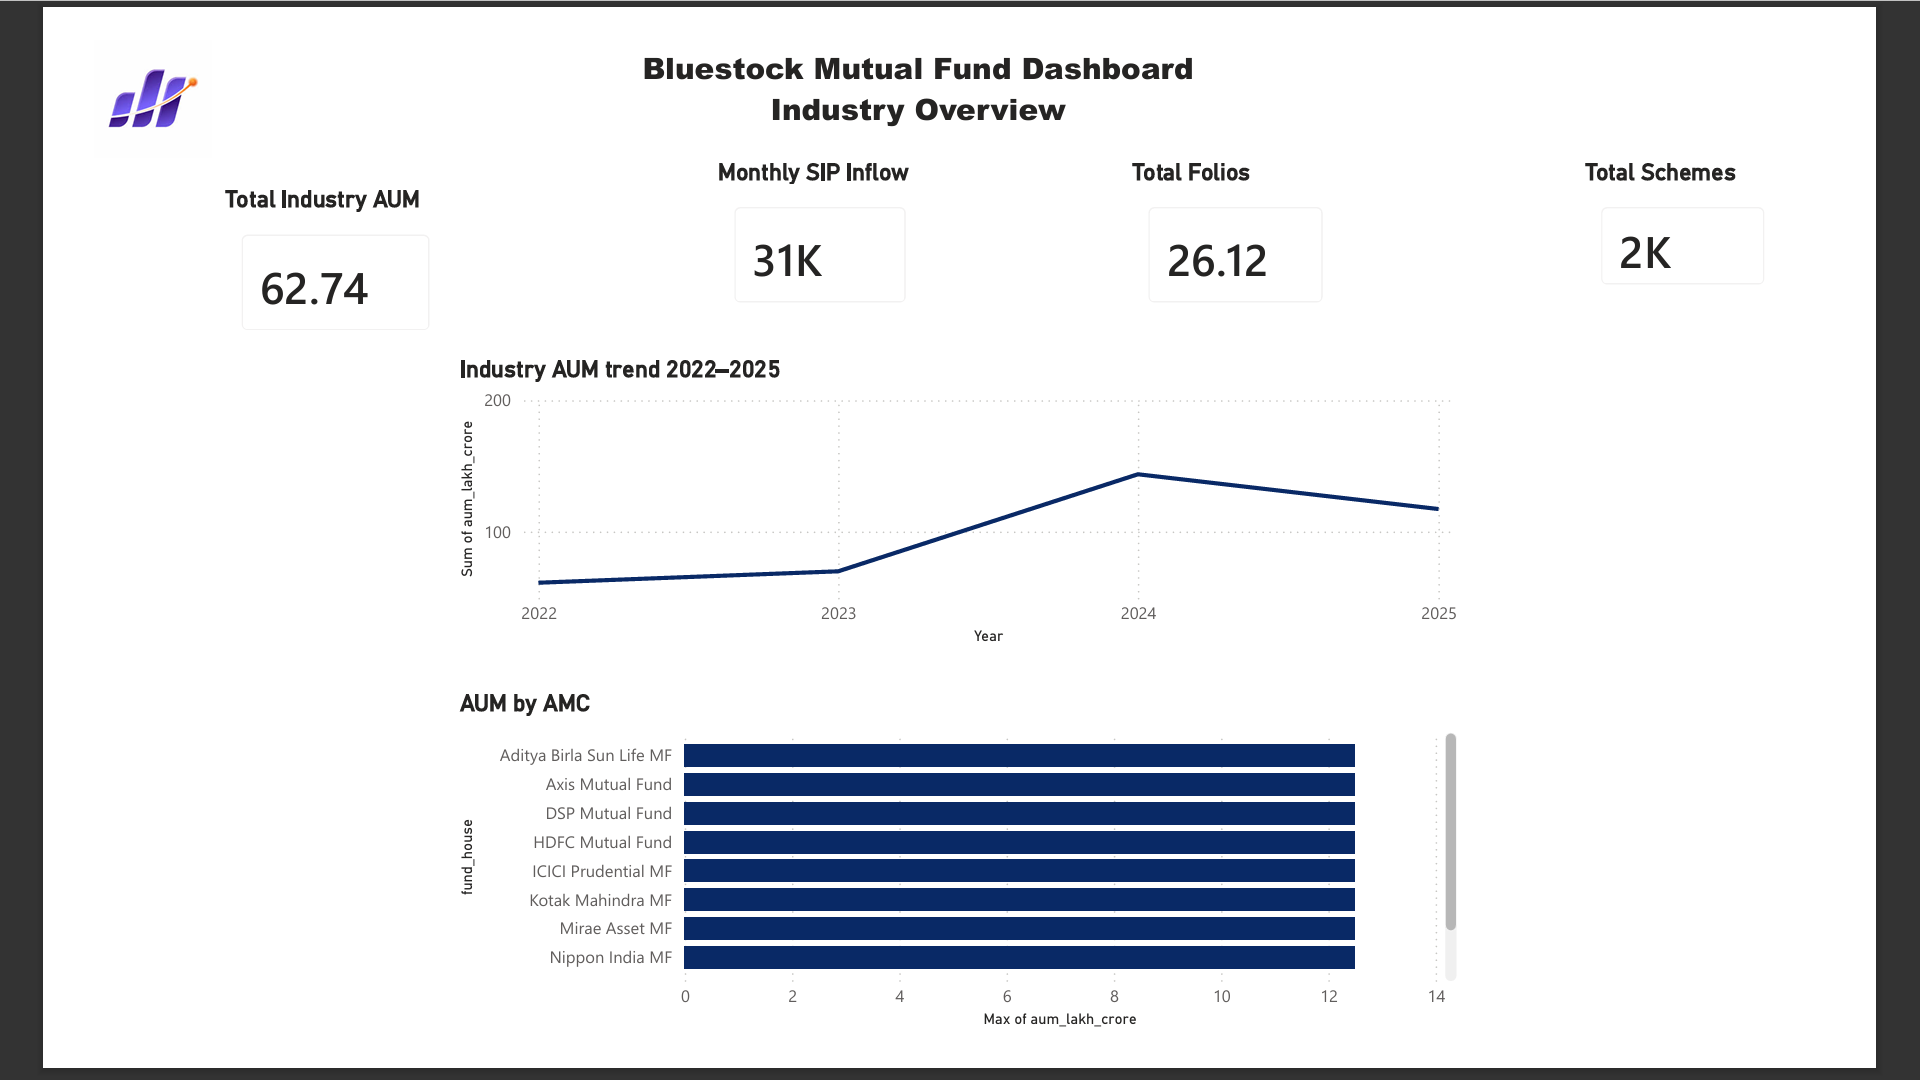

This screenshot's page, from the dashboard's own definition file:
{"tool":"powerbi","page":{"name":"Industry Overview","canvas":[1280,720],"ordinal":0},"visuals":[{"type":"cardVisual","title":"Total Industry AUM","fields":{"Data":["aum_by_fund_house_clean.Latest Industry AUM"]},"box":[102.5,105,170,122.5],"z":0},{"type":"cardVisual","title":"Monthly SIP Inflow","fields":{"Data":["Max(monthly_sip_inflows_clean.sip_inflow_crore)"]},"box":[460,85,157.5,122.5],"z":1000},{"type":"cardVisual","title":"Total Folios","fields":{"Data":["Max(industry_folio_count_clean.total_folios_crore)"]},"box":[760,85,160,122.5],"z":2000},{"type":"cardVisual","title":"Total Schemes","fields":{"Data":["aum_by_fund_house_clean.Latest Total Schemes"]},"box":[1087.5,85,152.5,110],"z":3000},{"type":"lineChart","title":"Industry AUM trend 2022–2025","fields":{"Category":["aum_by_fund_house_clean.date.Variation.Date Hierarchy.Year","aum_by_fund_house_clean.date.Variation.Date Hierarchy.Quarter","aum_by_fund_house_clean.date.Variation.Date Hierarchy.Month","aum_by_fund_house_clean.date.Variation.Date Hierarchy.Day"],"Y":["Sum(aum_by_fund_house_clean.aum_lakh_crore)"]},"box":[272.5,227.5,732.5,215],"z":4000},{"type":"clusteredBarChart","title":"AUM by AMC","fields":{"Category":["fund_master_clean.fund_house"],"Y":["Max(aum_by_fund_house_clean.aum_lakh_crore)"]},"box":[272.5,470,732.5,250],"z":5000},{"type":"textbox","box":[55,0,1110,72.5],"z":6000},{"type":"image","box":[5.4,0,99.2,85.4],"z":6001}]}

Visuals, with their boxes in screenshot pixels (x1, y1, x2, y2), scaled from the page's 1280x720 canvas onto the 1920x1080 screenshot:
"Total Industry AUM" cardVisual: x1=154 y1=158 x2=409 y2=341
"Monthly SIP Inflow" cardVisual: x1=690 y1=128 x2=926 y2=311
"Total Folios" cardVisual: x1=1140 y1=128 x2=1380 y2=311
"Total Schemes" cardVisual: x1=1631 y1=128 x2=1860 y2=292
"Industry AUM trend 2022–2025" lineChart: x1=409 y1=341 x2=1508 y2=664
"AUM by AMC" clusteredBarChart: x1=409 y1=705 x2=1508 y2=1079
textbox: x1=82 y1=0 x2=1748 y2=109
image: x1=8 y1=0 x2=157 y2=128
